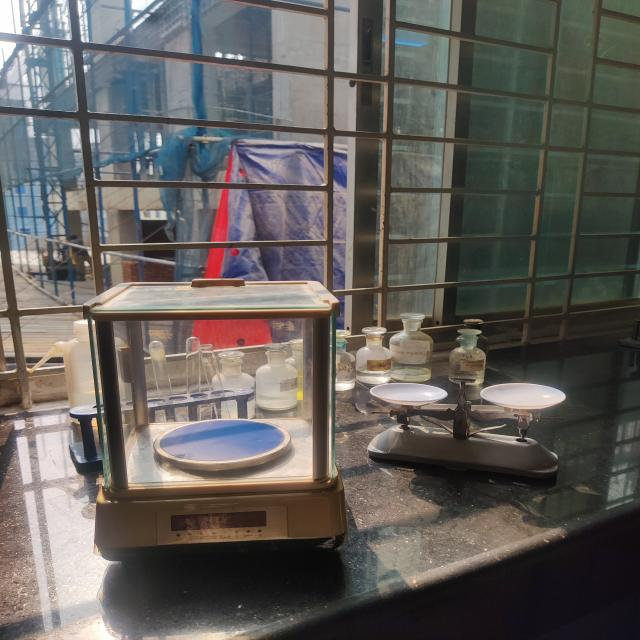Mechanical_Balance_Scale: (361, 352, 584, 497)
Precision_Weight_Scale: (43, 242, 371, 574)
